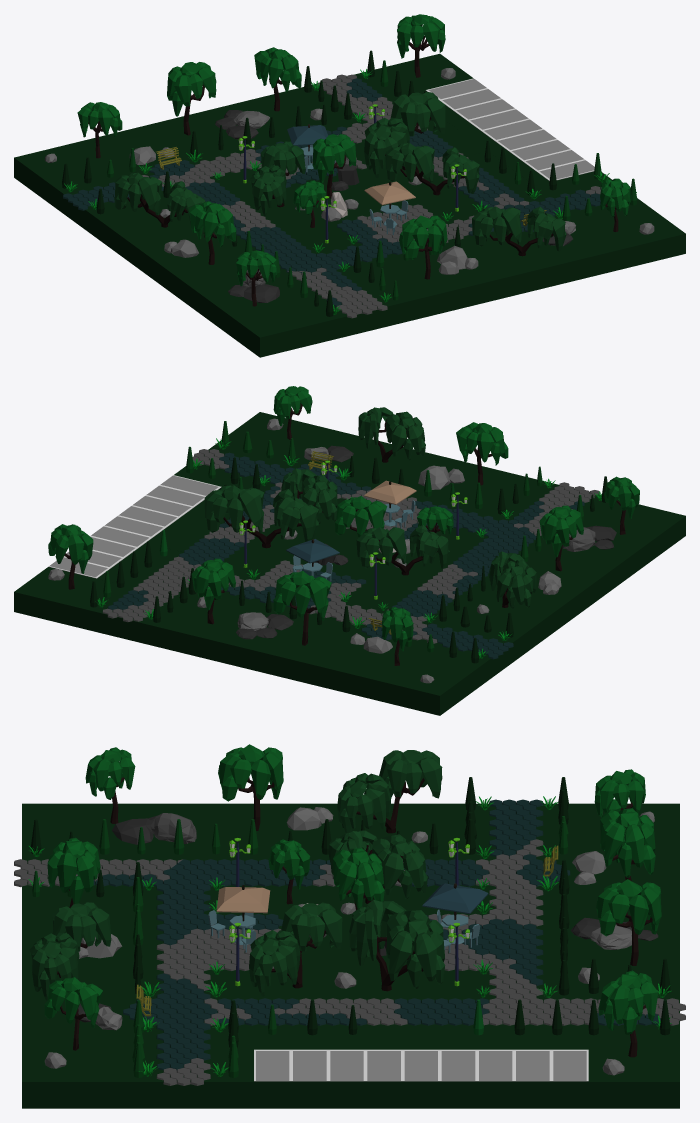
The model's file is AsiaPark.FBX.
3 renders of one model, top to bottom at view 1: azimuth 30°, elevation 25°; view 2: azimuth 150°, elevation 25°; view 3: azimuth 270°, elevation 25°, orthographic. The views are drawn at different scales.
Visible parts, largest first — view 1: AsiaPark; view 2: AsiaPark; view 3: AsiaPark.
Boxes of the visible parts, x1,y1,x2,y2 form: AsiaPark: (14, 14, 685, 357); AsiaPark: (14, 386, 685, 715); AsiaPark: (14, 744, 685, 1108).
Size of the model in its own units: 20484 by 4043 by 20424.
